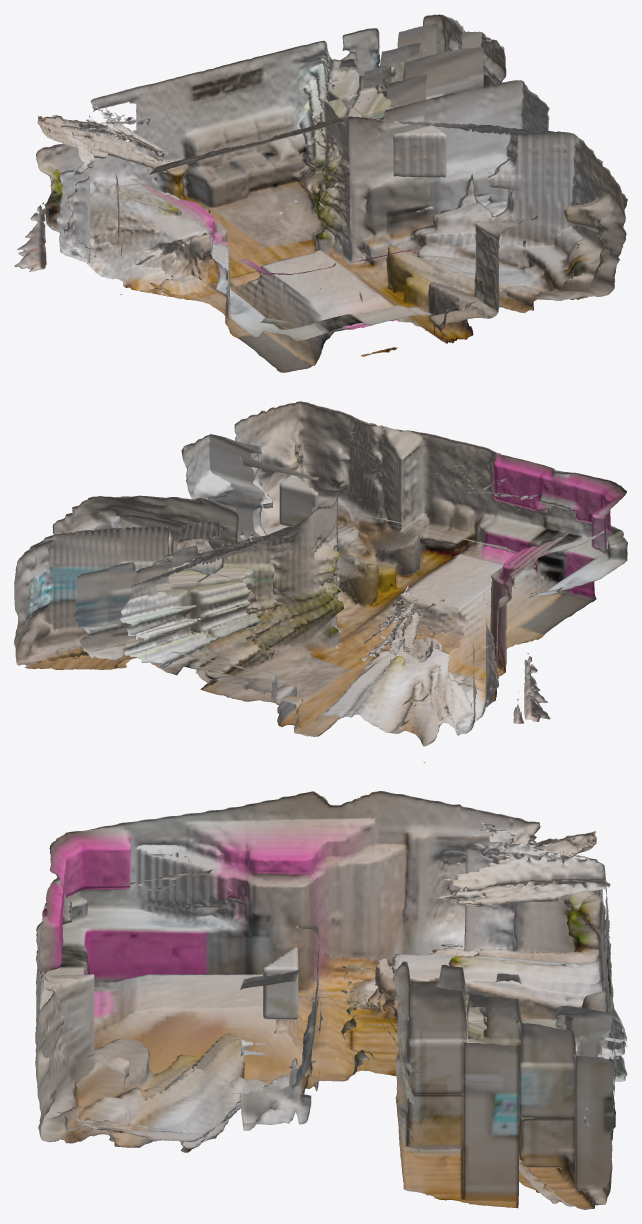
Rendered from PinkCabinets.glb.
3 renders of one model, top to bottom at view 1: azimuth 30°, elevation 25°; view 2: azimuth 150°, elevation 25°; view 3: azimuth 270°, elevation 25°, orthographic. The views are drawn at different scales.
Parts seen in each view (by area): view 1: world; view 2: world; view 3: world.
Part boxes in pixels (x1,y1,x2,y2): world: (14,14,627,372); world: (14,401,627,762); world: (35,791,627,1209).
Size of the model in its own units: 10.82 by 4.04 by 9.7.
